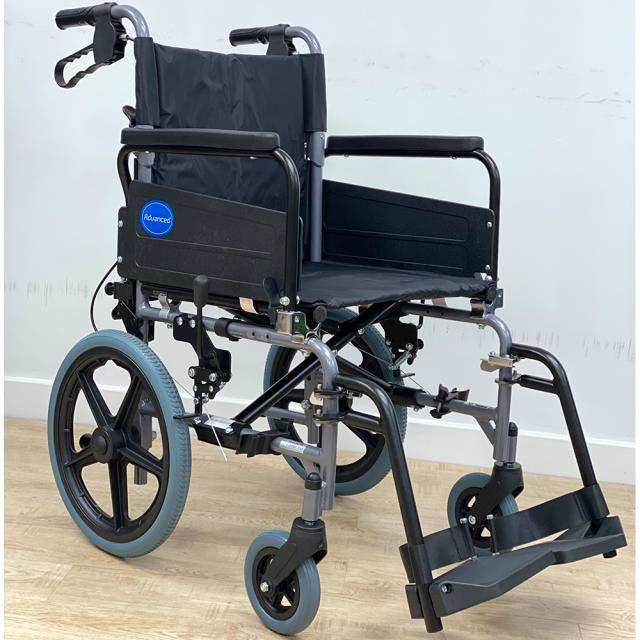wheelchair: (31, 0, 639, 639)
